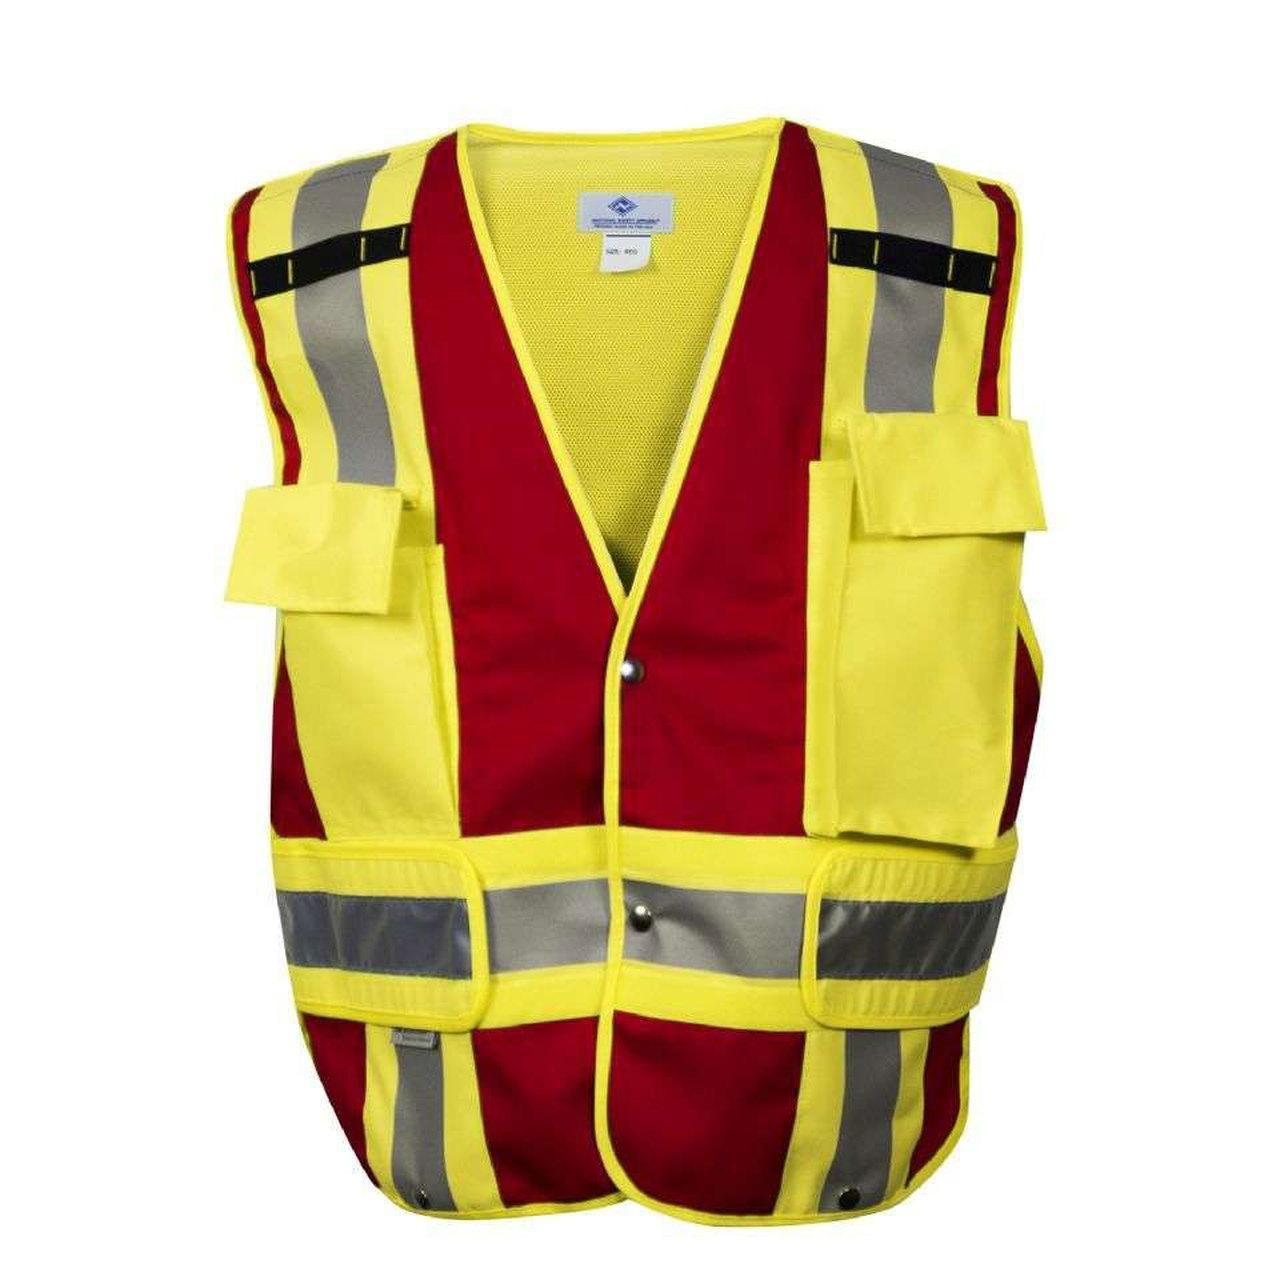vest: (227, 125, 1046, 1224)
